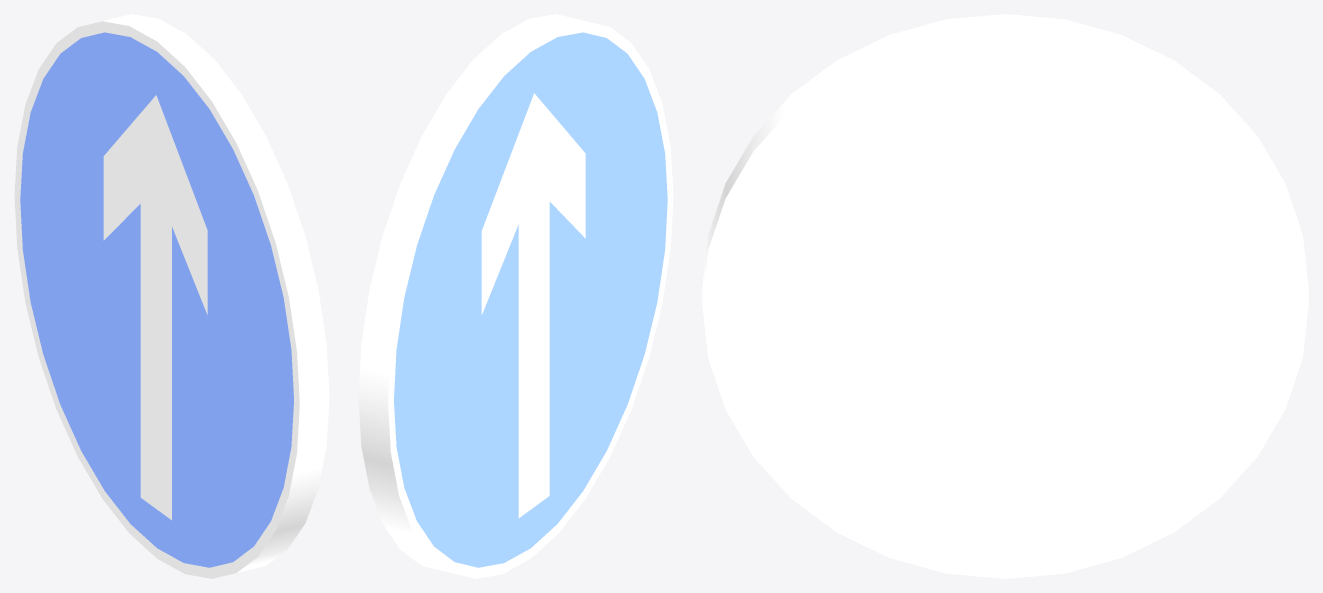
The model's file is Straight.glb.
3 renders of one model, left to right at view 1: azimuth 30°, elevation 25°; view 2: azimuth 150°, elevation 25°; view 3: azimuth 270°, elevation 25°, orthographic. The views are drawn at different scales.
Visible parts, largest first — view 1: Straight; view 2: Straight; view 3: Straight.
Part boxes in pixels (x1,y1,x2,y2): Straight: [14, 14, 329, 578]; Straight: [358, 14, 673, 578]; Straight: [702, 14, 1308, 578].
Bounding box in the file's own units: 0.0643 × 1 × 1.
